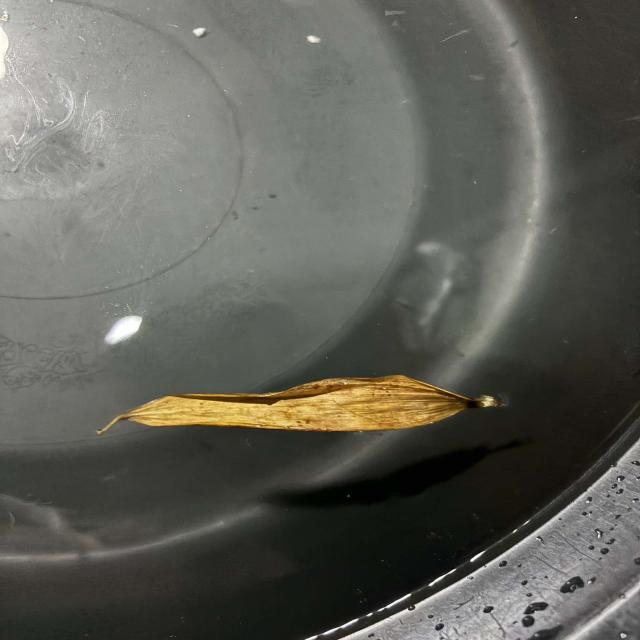Leaf: (98, 376, 500, 434)
